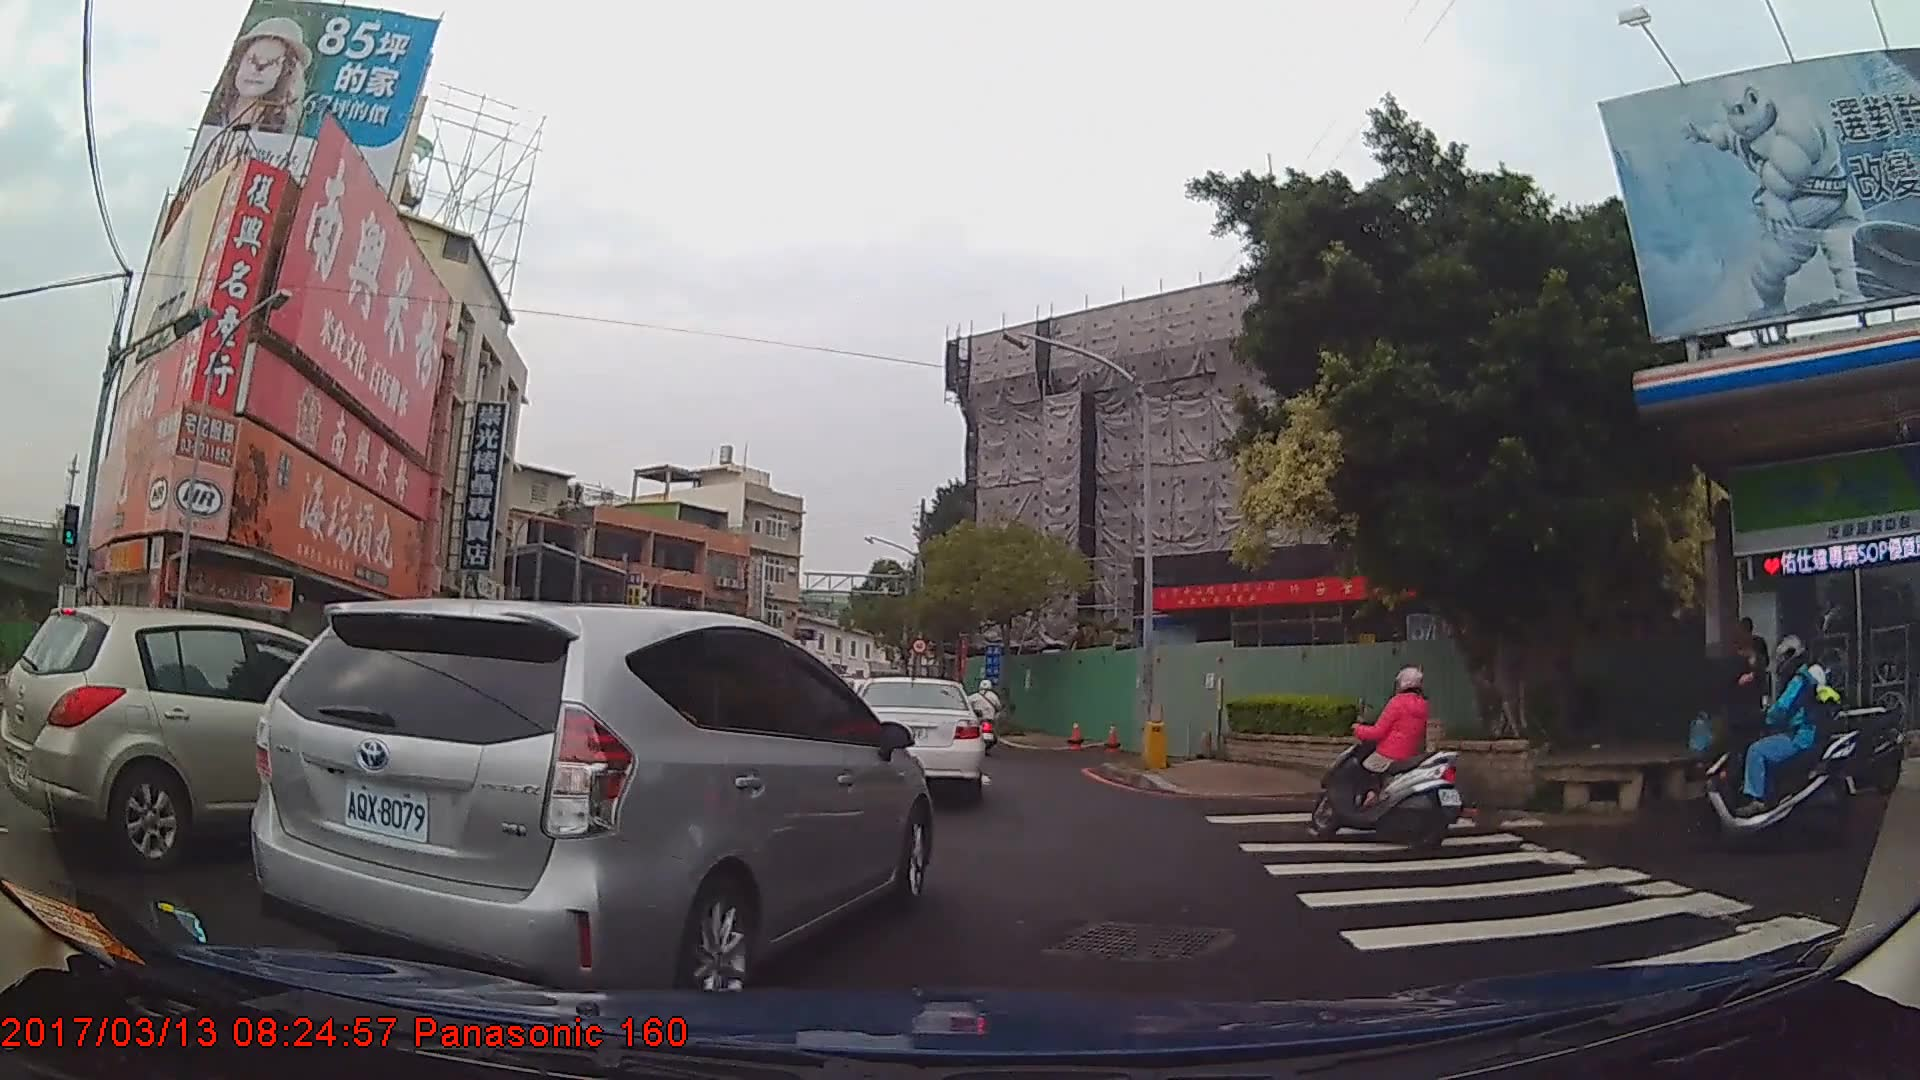pedestrian: (1717, 635, 1776, 816), (1722, 611, 1775, 757)
rider: (1674, 633, 1868, 847), (1308, 668, 1463, 846), (970, 681, 1004, 758)
vehicle: (247, 598, 933, 1003), (3, 603, 414, 868), (843, 677, 984, 808)
